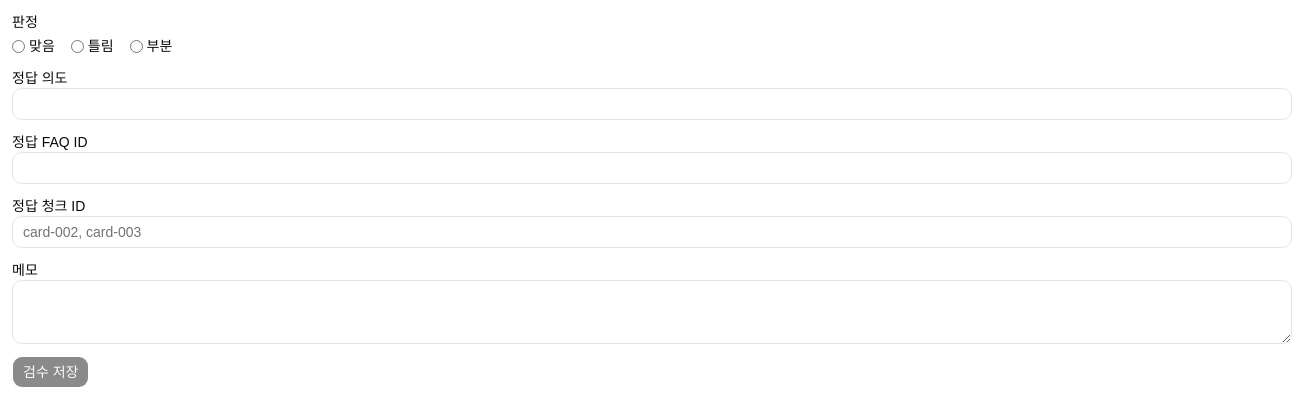
Test: ReviewForm › 저장 중에는 비활성화되어 중복 저장되지 않는다
The width and height of the screenshot is (1304, 405).
What coordinates should you click on to do the following:
click the radio button labelled "맞음"
I would click on:
 (18, 46)
Its box is [12, 40, 25, 52].
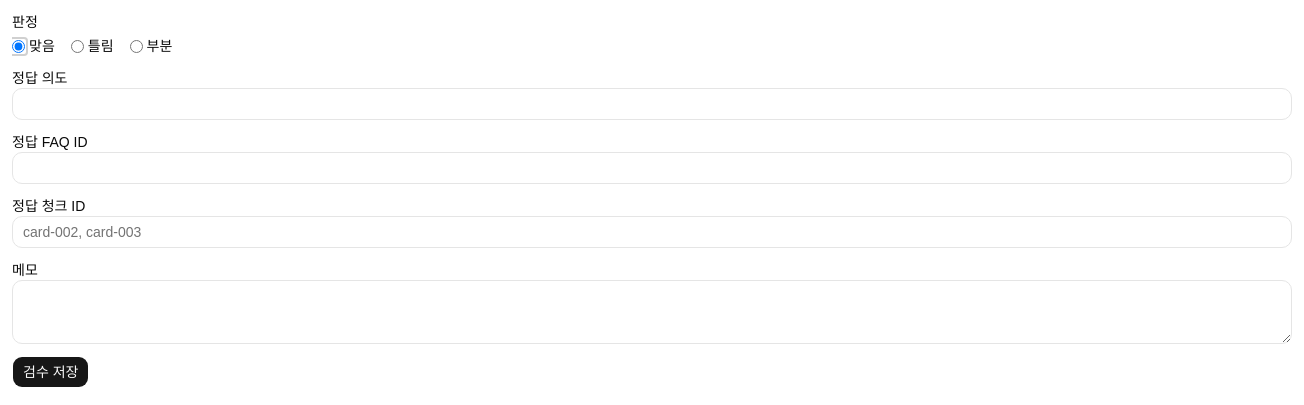
What coordinates should you click on to do the following:
click the button "검수 저장"
I would click on:
 (51, 372)
Its box is [12, 356, 89, 388].
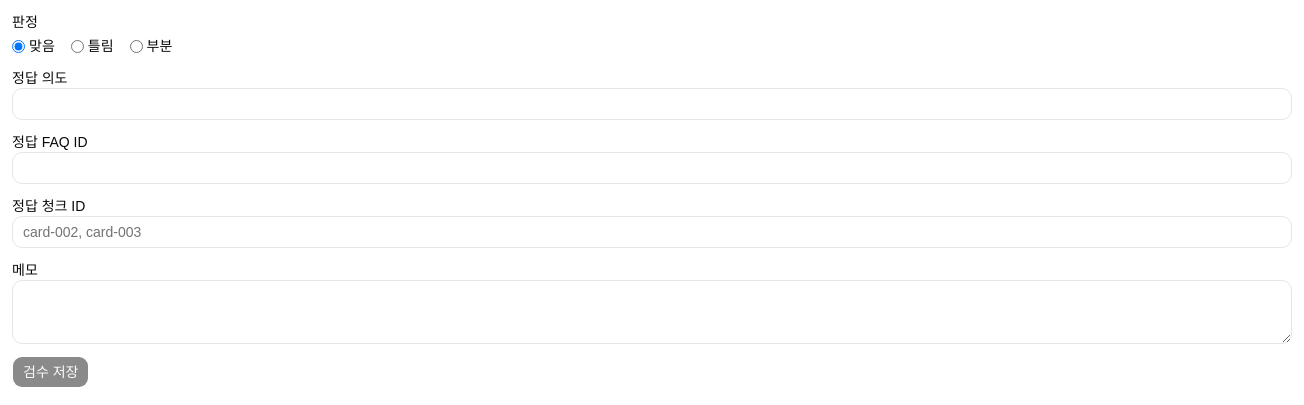
Expected: the button "검수 저장" is disabled
What coordinates should you click on to do the following:
click the button "검수 저장"
I would click on:
 (51, 372)
Its box is [12, 356, 89, 388].
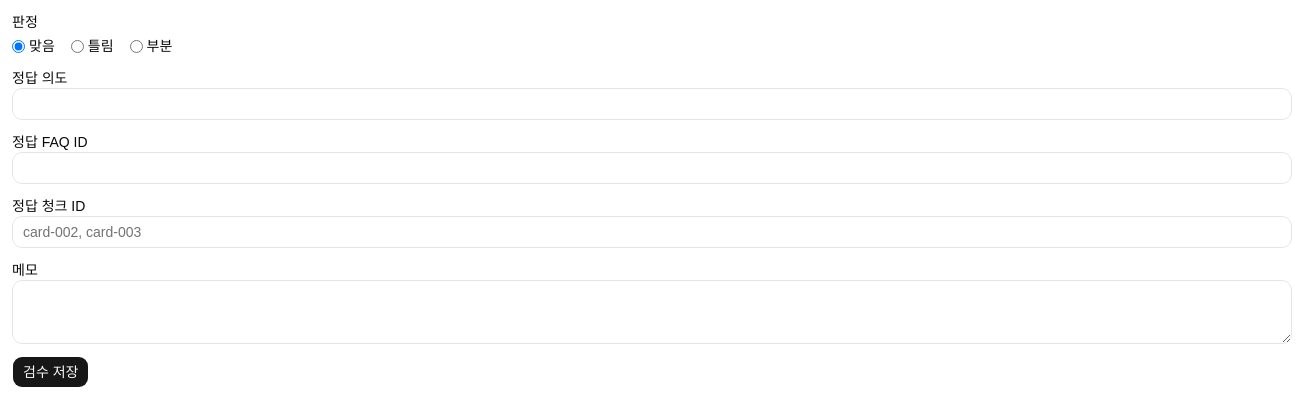
Expected: the button "검수 저장" is enabled, [12, 356, 89, 388]
